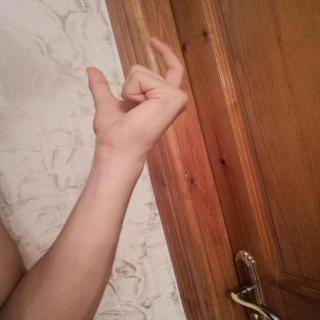NOON: (77, 29, 201, 166)
